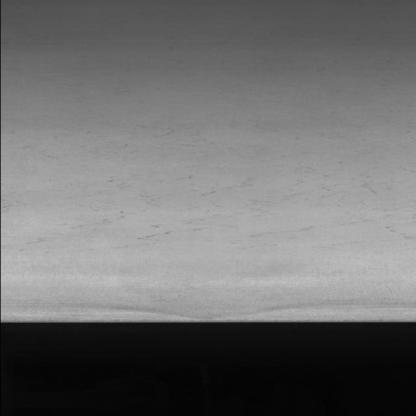silk_spot: (65, 134, 416, 247)
